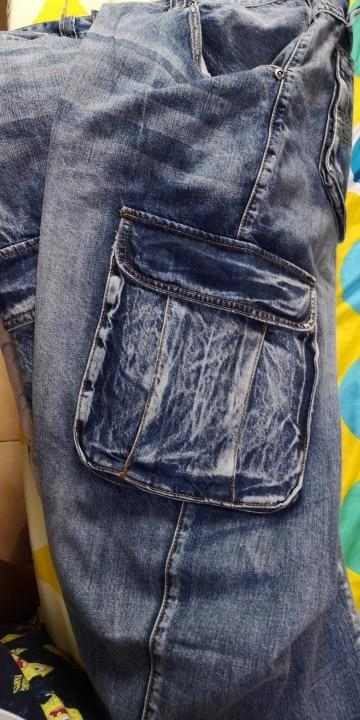jeans: (28, 5, 360, 709)
